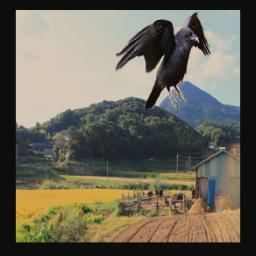Crow: (114, 11, 210, 109)
